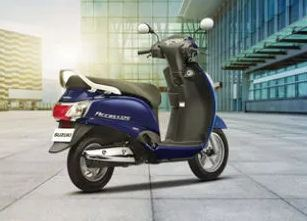bike: (46, 15, 234, 194)
